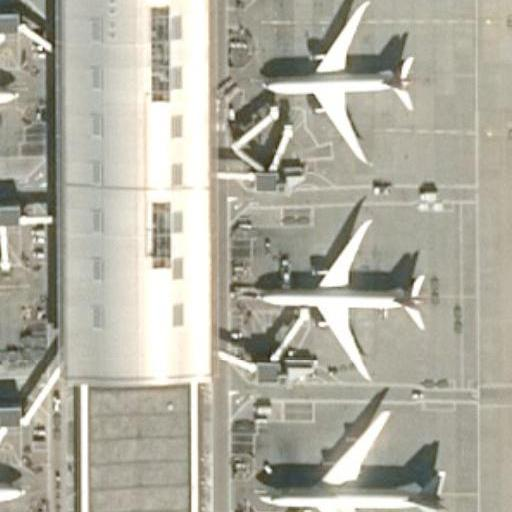Aircraft: (260, 219, 428, 379), (241, 0, 398, 163), (257, 409, 444, 512), (0, 12, 17, 175), (0, 406, 25, 512)
